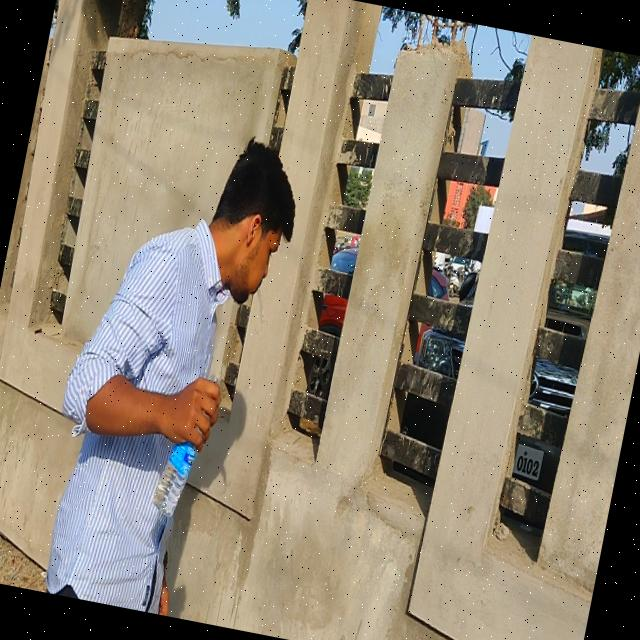spit: (231, 142, 301, 352)
